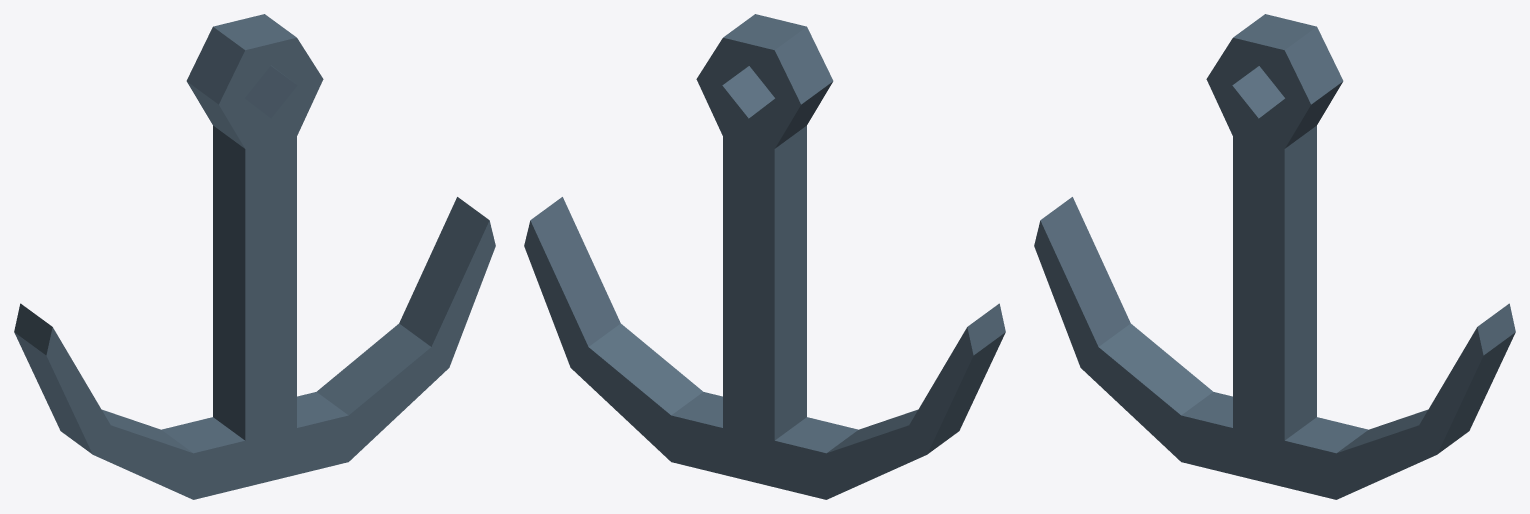
The model's file is Fallen Anchor.fbx.
3 views of the same model, side by side, from view 1: azimuth 30°, elevation 25°; view 2: azimuth 150°, elevation 25°; view 3: azimuth 330°, elevation 25° (orthographic).
Visible parts, largest first — view 1: Object001; view 2: Object001; view 3: Object001.
Part boxes in pixels (x1,y1,x2,y2): Object001: (14,14,495,499); Object001: (524,14,1005,499); Object001: (1034,14,1515,499).
Bounding box in the file's own units: 75.47 × 70.13 × 9.4.
1 material, 1 textured.
